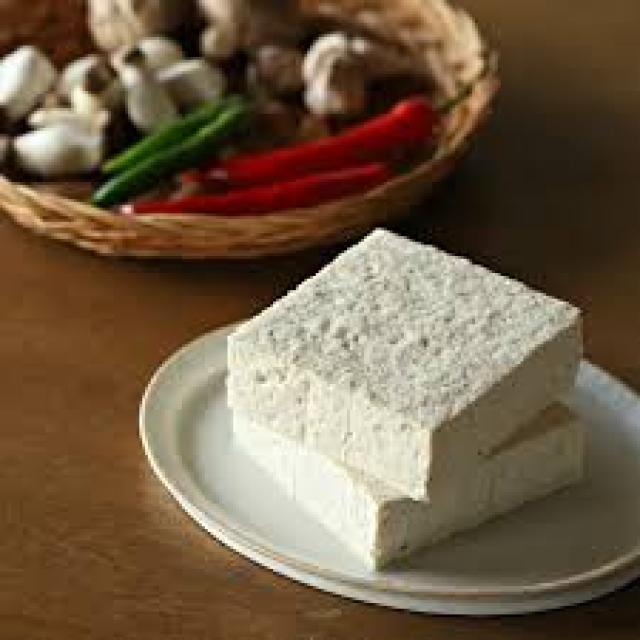tofu: (235, 207, 602, 586)
